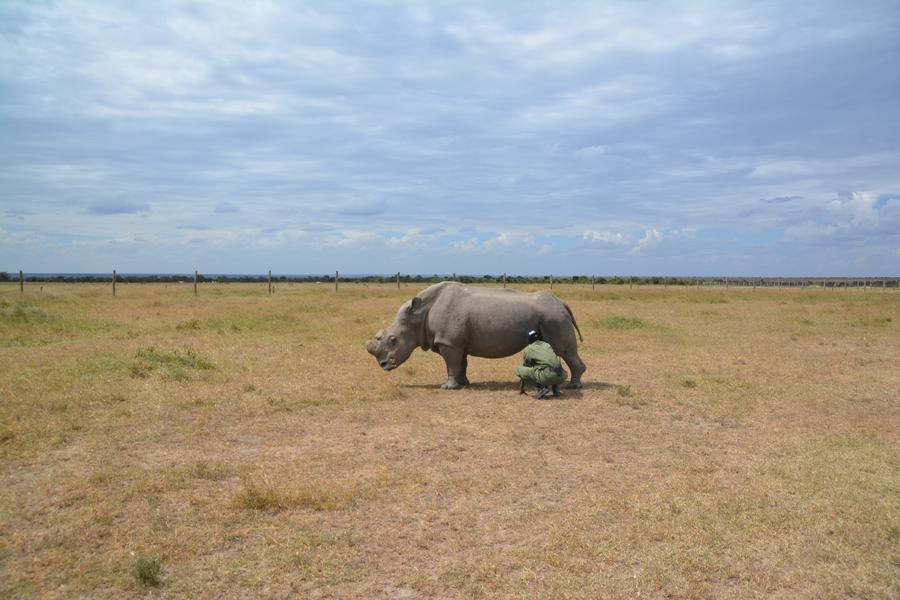rhino: (372, 286, 587, 396)
